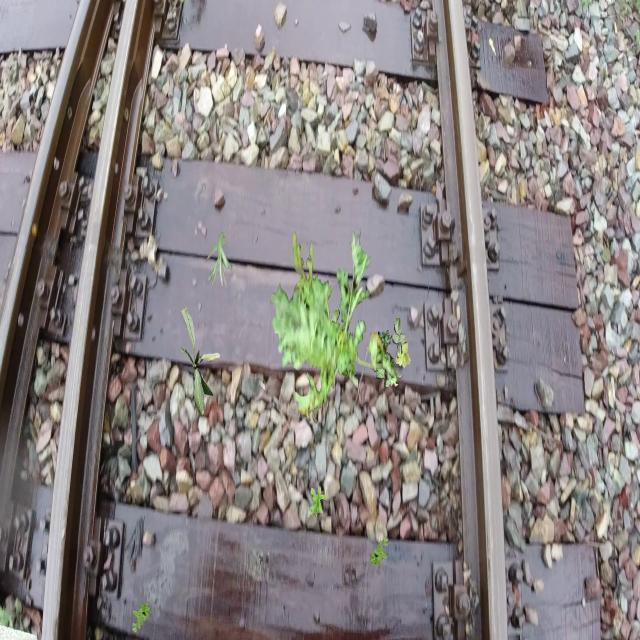Plant: (270, 228, 395, 424), (181, 307, 221, 417), (315, 308, 357, 379), (373, 318, 410, 392), (206, 232, 232, 288), (132, 600, 152, 632), (369, 536, 388, 568), (310, 486, 328, 518)
